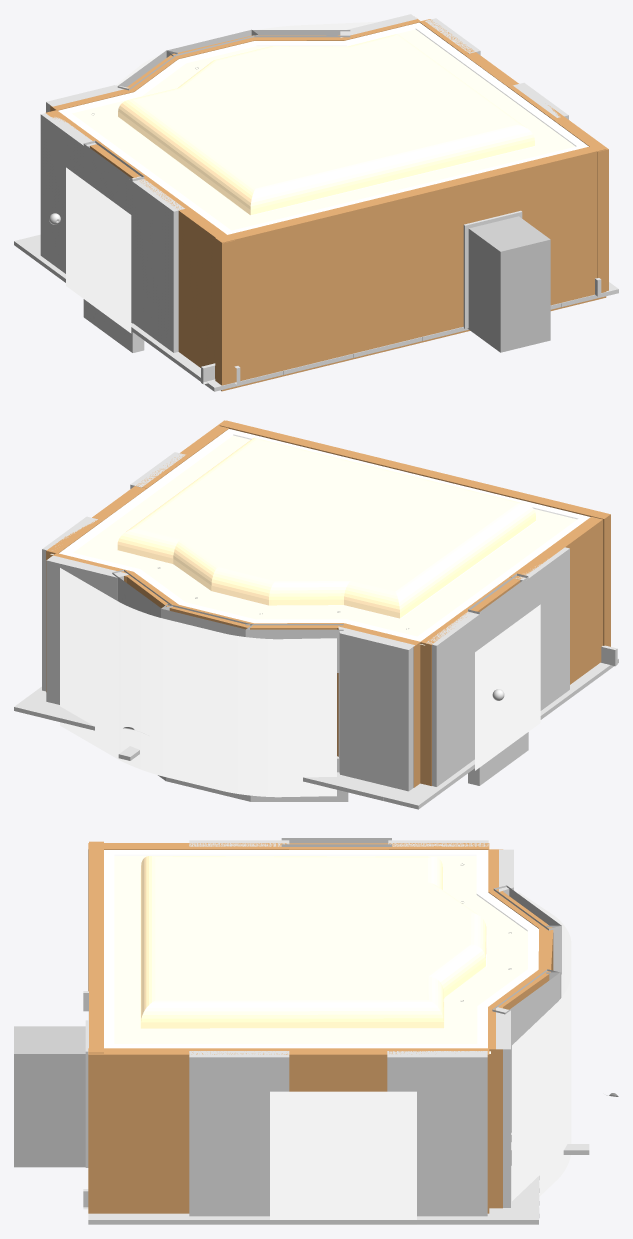
The model's file is Schlafzimmer_old.glb.
The picture shows the model from 3 angles, top to bottom: view 1: azimuth 30°, elevation 25°; view 2: azimuth 150°, elevation 25°; view 3: azimuth 270°, elevation 25°; orthographic projection. The views are drawn at different scales.
Parts seen in each view (by area): view 1: Decke, Wand.023, Cube.012, Plane.002, Wand.019, Wand.009, Wand.020, Wand.001, Wand.012, Wand.022, Deckenabschluss.004, Deckenabschluss.001 (+16 smaller); view 2: Decke, Plane, Wand.002, Plane.002, Wand.020, Wand.009, Wand.019, Wand.023, Wand.001, Wand.004, Wand, Wand.022 (+14 smaller); view 3: Decke, Plane.001, Wand.012, Wand.018, Wand.017, Plane, Cube.012, Wand.001, Wand.010, Wand.023, Deckenabschluss.006, Deckenabschluss.001 (+21 smaller).
Part boxes in pixels (bbox=[...]): Decke: bbox=[72, 29, 575, 230]; Wand.023: bbox=[215, 144, 606, 391]; Cube.012: bbox=[467, 216, 550, 352]; Plane.002: bbox=[66, 167, 131, 333]; Wand.019: bbox=[129, 176, 184, 352]; Wand.009: bbox=[179, 208, 234, 384]; Wand.020: bbox=[40, 113, 96, 273]; Wand.001: bbox=[50, 18, 420, 111]; Wand.012: bbox=[552, 116, 608, 292]; Wand.022: bbox=[83, 140, 144, 213]; Deckenabschluss.004: bbox=[415, 22, 585, 146]; Deckenabschluss.001: bbox=[229, 144, 588, 234]; Decke: bbox=[50, 435, 576, 645]; Plane: bbox=[60, 568, 336, 797]; Wand.002: bbox=[338, 626, 414, 791]; Plane.002: bbox=[475, 604, 540, 770]; Wand.020: bbox=[426, 611, 481, 786]; Wand.009: bbox=[554, 516, 602, 684]; Wand.019: bbox=[514, 547, 569, 710]; Wand.023: bbox=[219, 420, 610, 646]; Wand.001: bbox=[53, 553, 420, 787]; Wand.004: bbox=[46, 555, 128, 704]; Wand: bbox=[420, 609, 469, 785]; Wand.022: bbox=[468, 573, 528, 647]; Decke: bbox=[114, 848, 527, 1053]; Plane.001: bbox=[270, 1091, 416, 1224]; Wand.012: bbox=[88, 1048, 188, 1213]; Wand.018: bbox=[189, 1051, 289, 1216]; Wand.017: bbox=[387, 1051, 487, 1216]; Plane: bbox=[512, 892, 571, 1200]; Cube.012: bbox=[14, 1026, 85, 1167]; Wand.001: bbox=[488, 849, 553, 1208]; Wand.010: bbox=[288, 1048, 388, 1091]; Wand.023: bbox=[89, 841, 103, 1053]; Deckenabschluss.006: bbox=[104, 850, 486, 855]; Deckenabschluss.001: bbox=[104, 850, 114, 1048].
Size of the model in its own units: 11.12 by 4.7 by 12.07.
